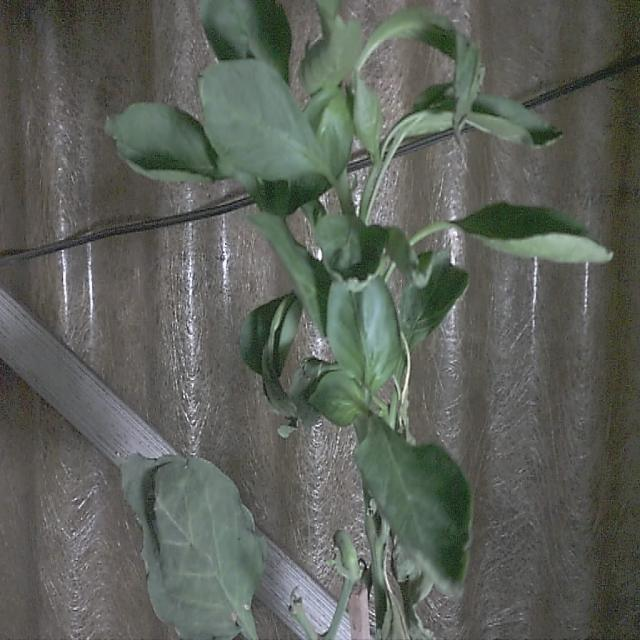Leaf: (118, 449, 266, 637), (351, 413, 472, 600), (198, 56, 326, 179), (458, 200, 614, 269)
